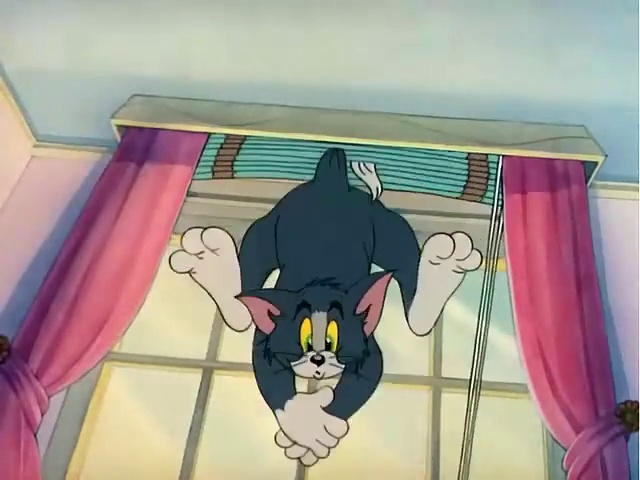tom: (168, 142, 488, 469)
